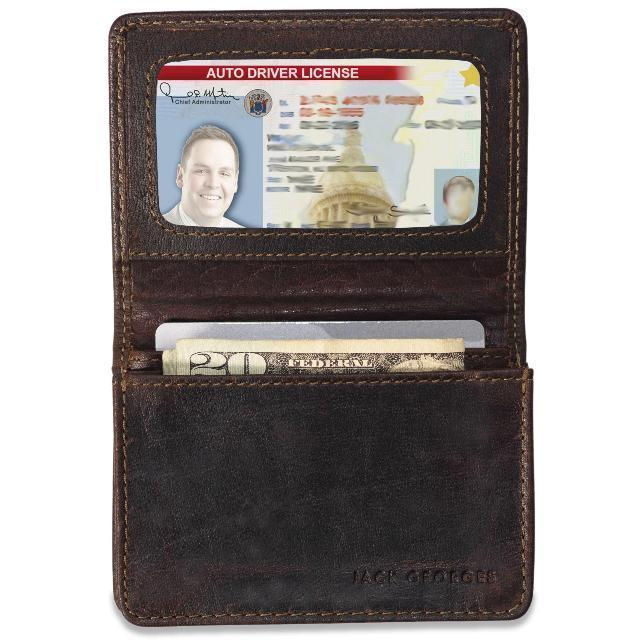wallet: (105, 5, 537, 627)
